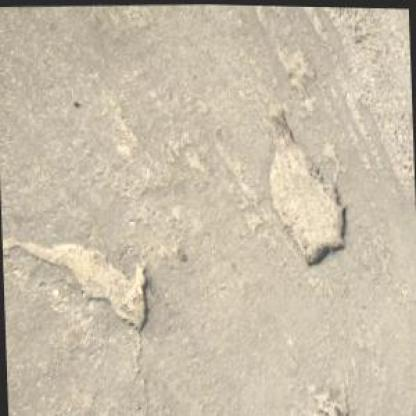pothole: (3, 228, 151, 336), (261, 101, 352, 272)
